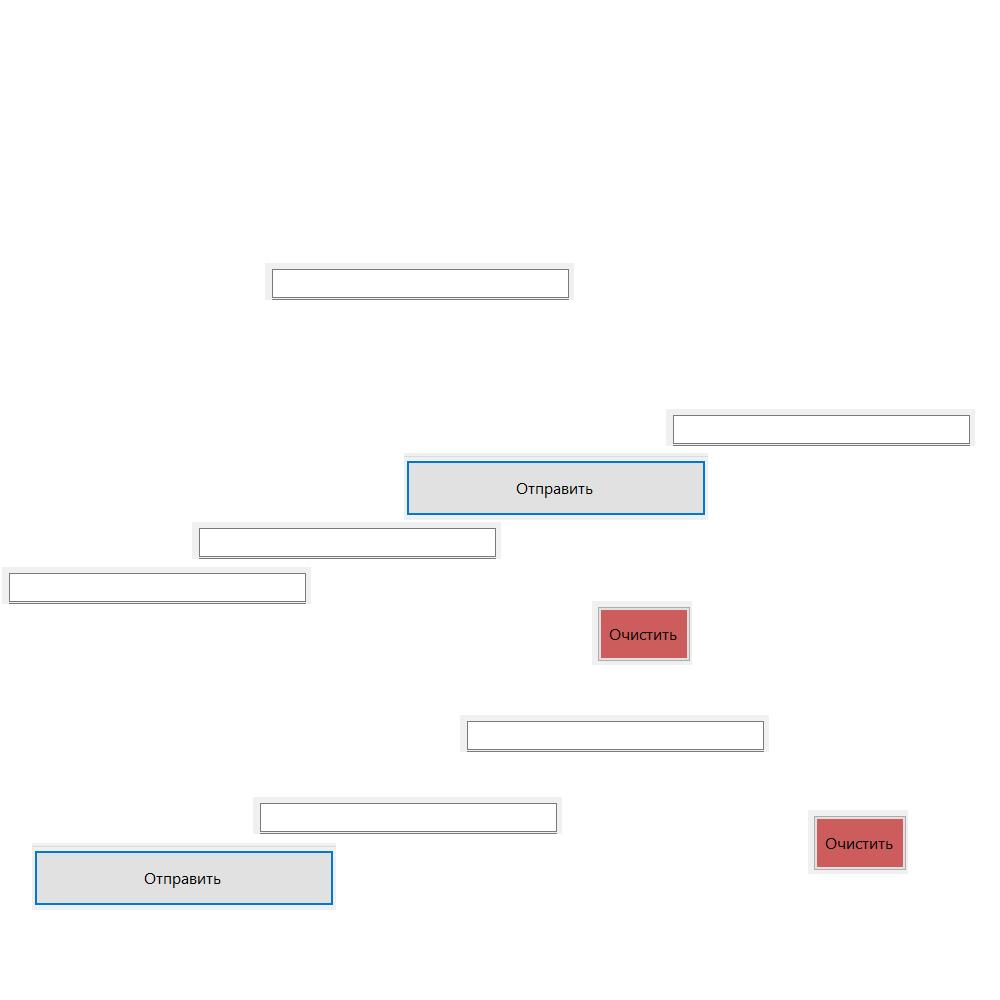Button: (32, 843, 336, 910), (404, 453, 708, 520), (592, 601, 692, 665), (808, 810, 908, 874)
EditText-: (265, 263, 574, 300), (460, 715, 769, 752), (192, 522, 501, 559), (2, 567, 311, 604), (253, 797, 562, 834), (666, 409, 975, 446)
